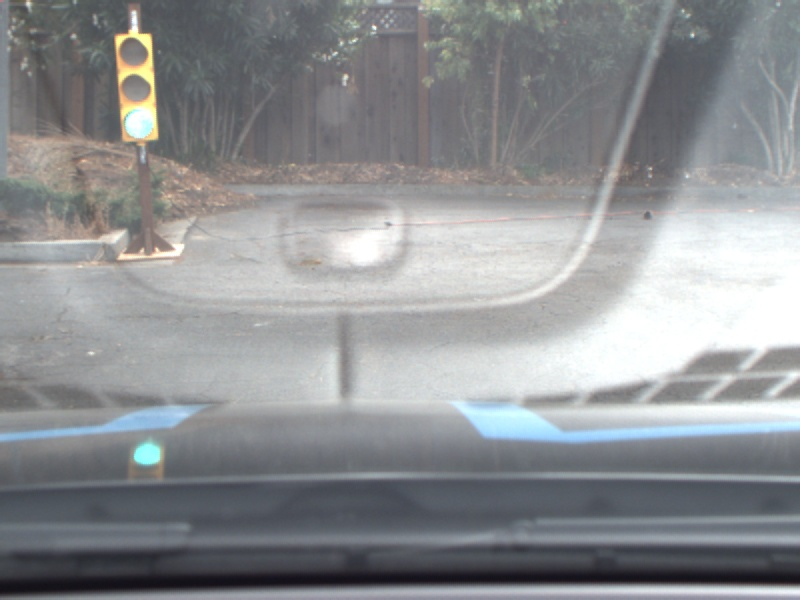green: (110, 19, 165, 141)
